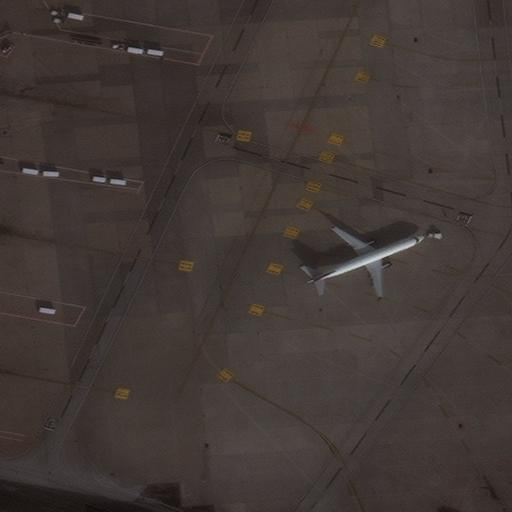Medium Civil Transport: (306, 225, 425, 297)
